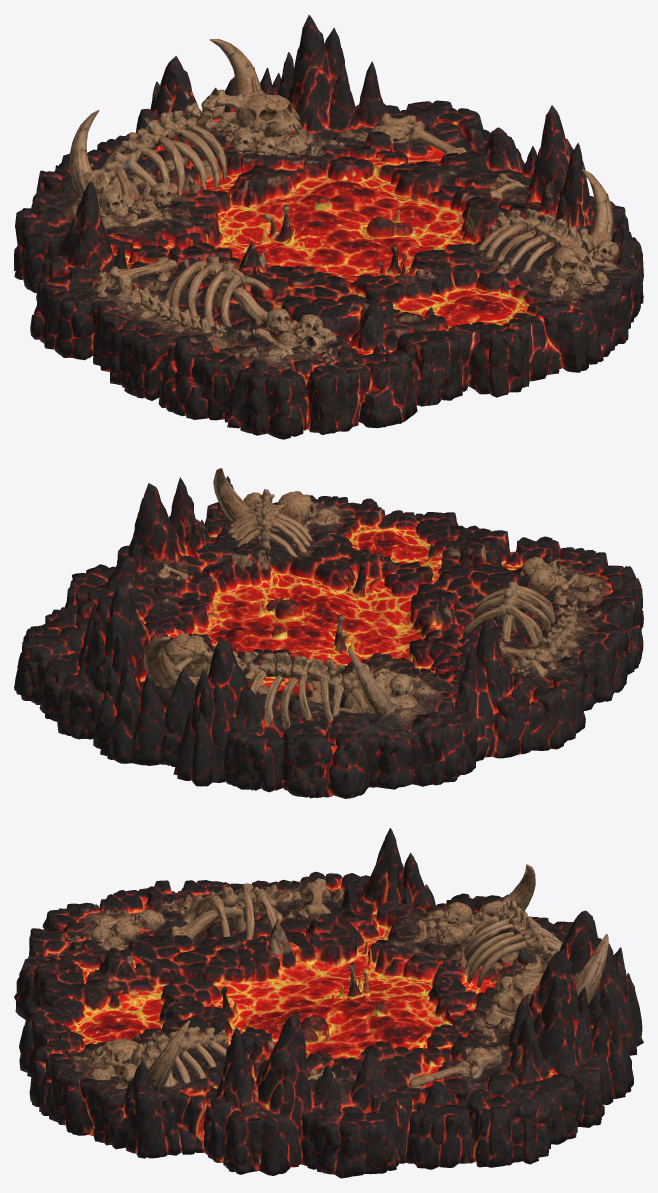
File: black_terrain_props.glb
The picture shows the model from 3 angles, top to bottom: view 1: azimuth 30°, elevation 25°; view 2: azimuth 150°, elevation 25°; view 3: azimuth 270°, elevation 25°; orthographic projection. The views are drawn at different scales.
Parts seen in each view (by area): view 1: Mesh_0; view 2: Mesh_0; view 3: Mesh_0.
Boxes of the visible parts, x1,y1,x2,y2 form: Mesh_0: (14, 15, 643, 439); Mesh_0: (14, 468, 643, 798); Mesh_0: (14, 828, 643, 1178).
Size of the model in its own units: 1.84 by 0.5162 by 1.91.
Materials: 1 (1 with a texture image).
